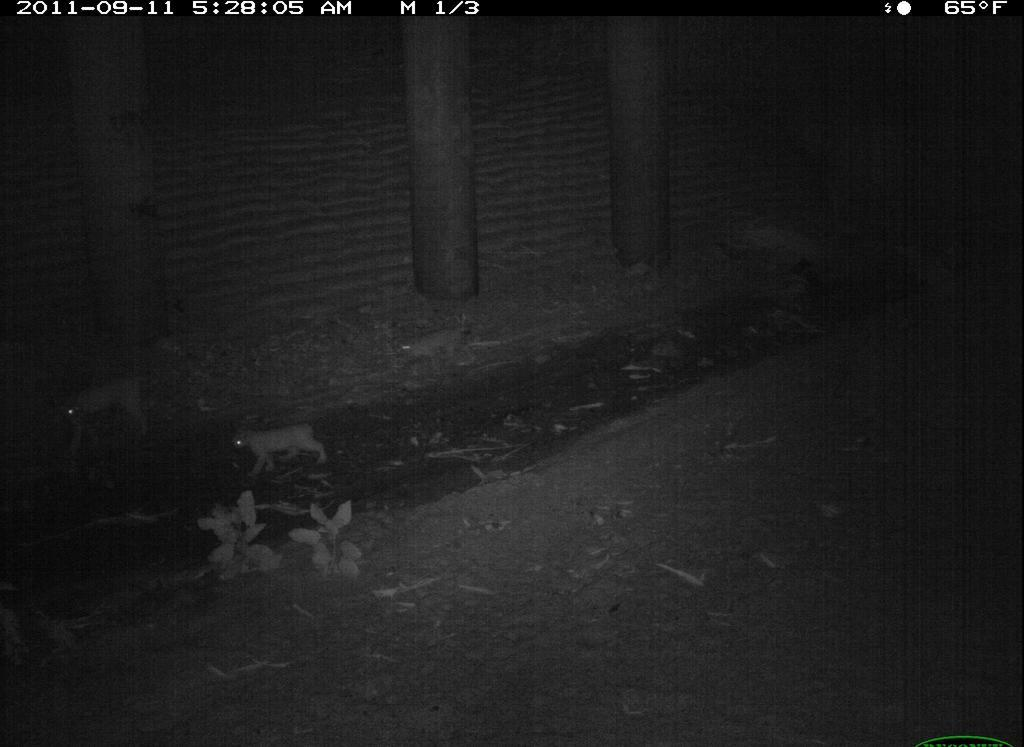bobcat: (787, 648, 963, 747), (109, 734, 323, 747)
